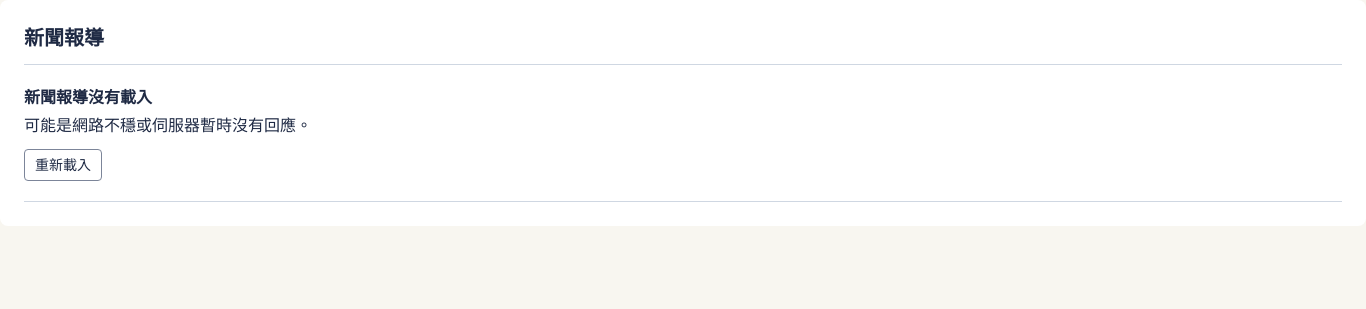
it: 總覽的「新聞報導」 › 請求失敗時顯示錯誤與重試，不說成「沒有報導」
Expected: the message shows "新聞報導沒有載入", 24,86 -> 152,108
Click the button "重新載入" at point(63, 165), box 24,149 -> 102,181
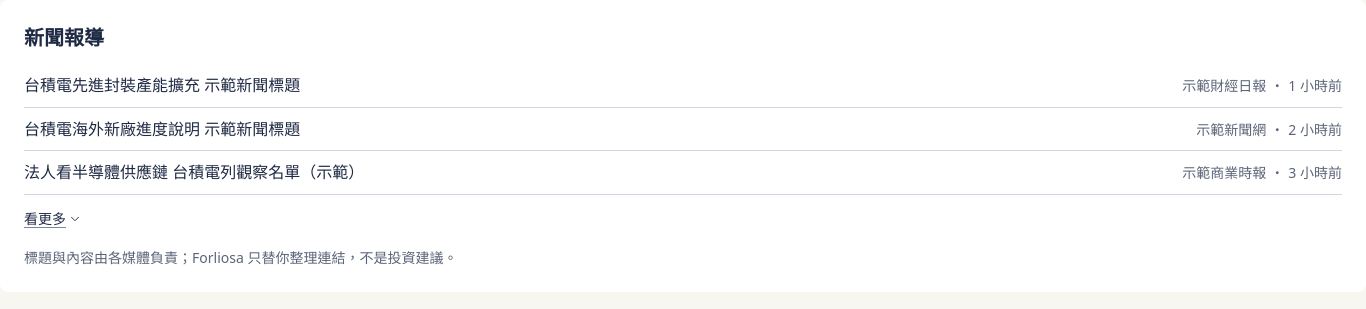
Expected: the message "新聞報導沒有載入 可能是網路不穩或伺服器暫時沒有回應。 重新載入" is gone
